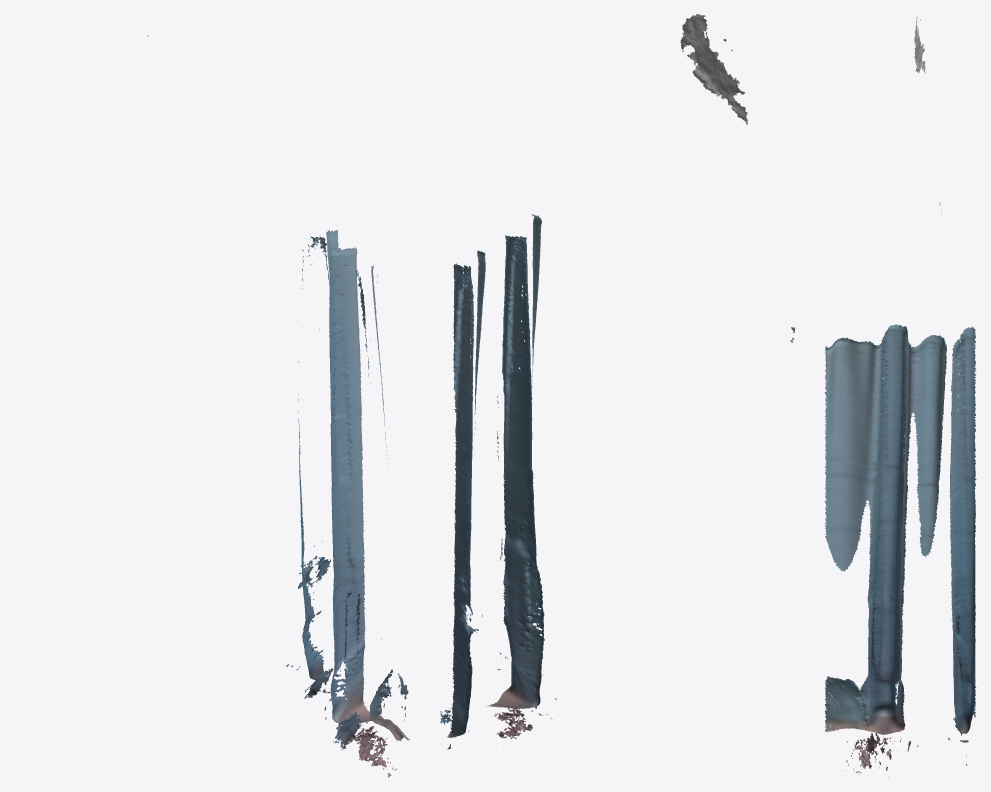
File: apartment-full-13-475c24b59c1c.glb
3 renders of one model, left to right at view 1: azimuth 30°, elevation 25°; view 2: azimuth 150°, elevation 25°; view 3: azimuth 270°, elevation 25°, orthographic. The views are drawn at different scales.
Bounding box in the file's own units: 1.35 × 3.12 × 0.644.
